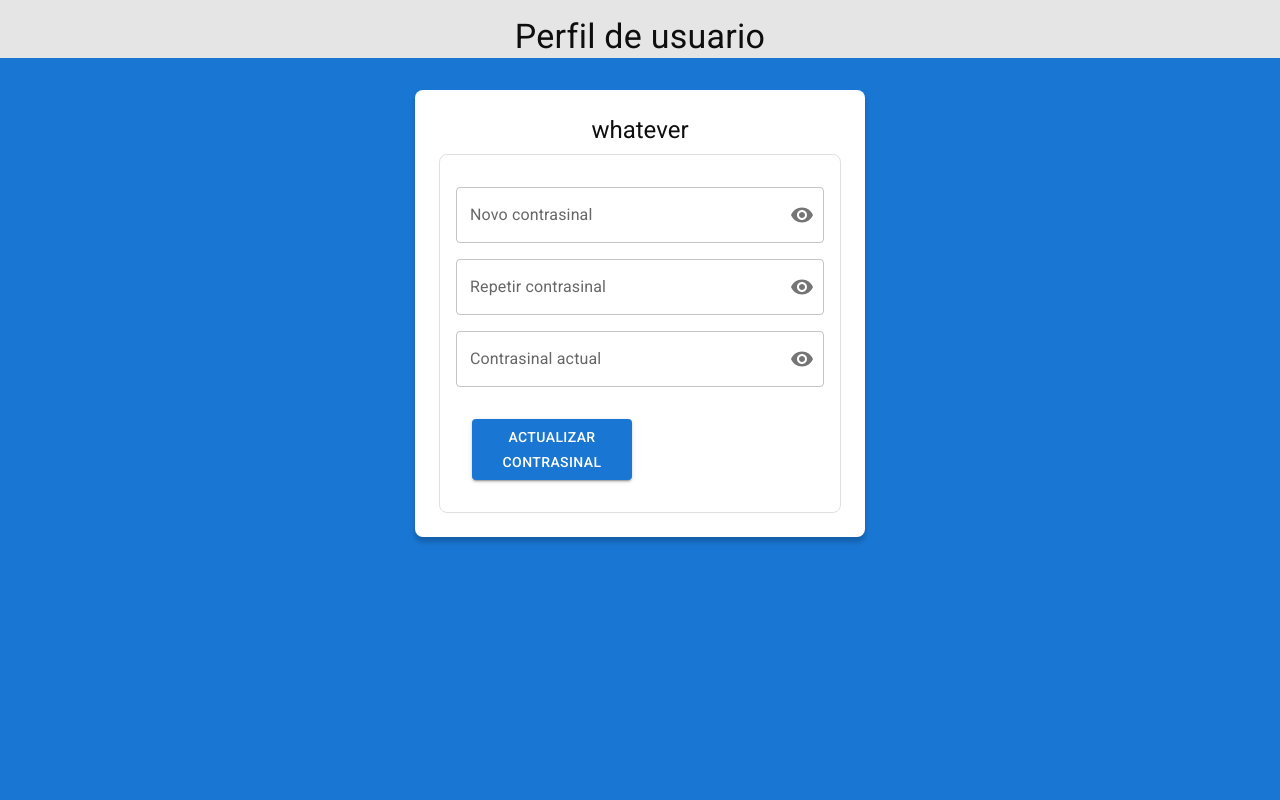
it: Profile › should render the backend error message
This screenshot has width=1280, height=800.
Type "SuperSecr3tPassword%" into the password field labelled "Novo contrasinal".
click(615, 215); type("SuperSecr3tPassword%")  # box [456,187,774,243]
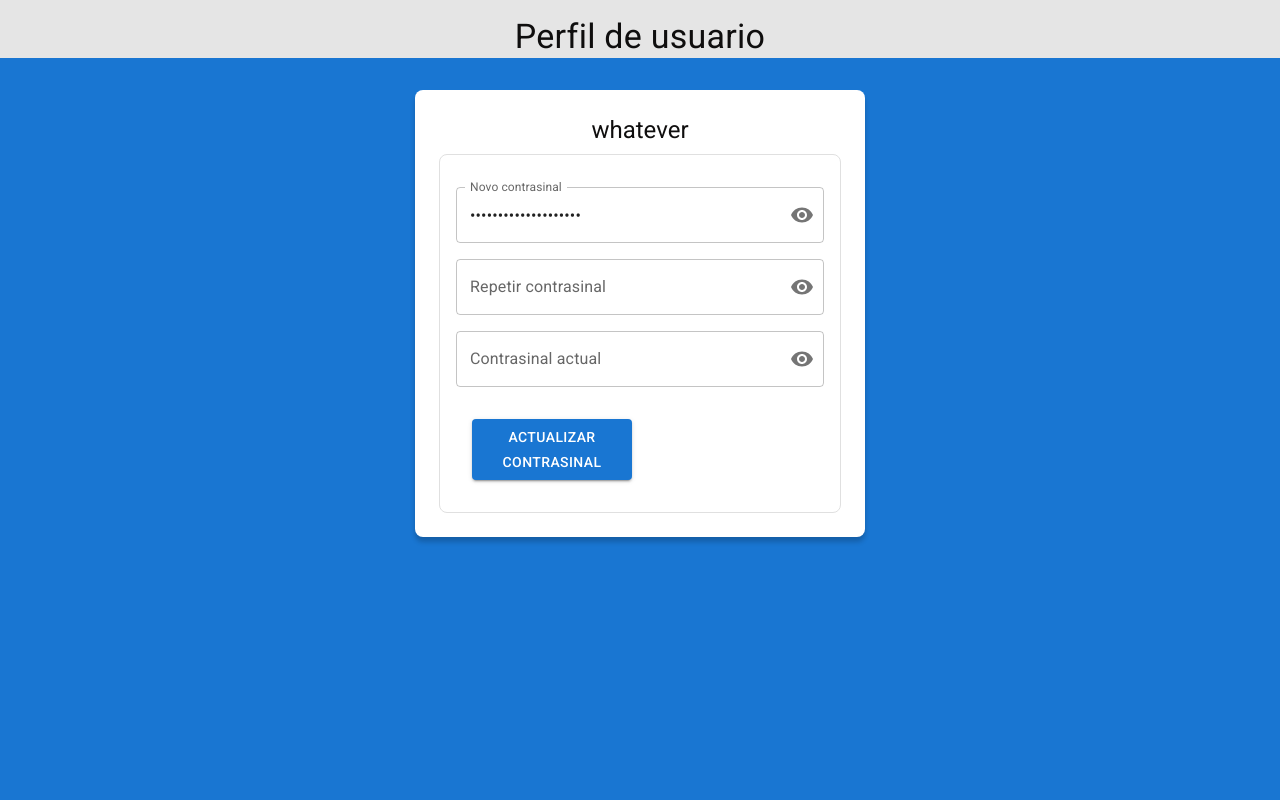
Type "SuperSecr3tPassword%" into the password field labelled "Repetir contrasinal".
click(615, 287); type("SuperSecr3tPassword%")  # box [456,259,774,315]
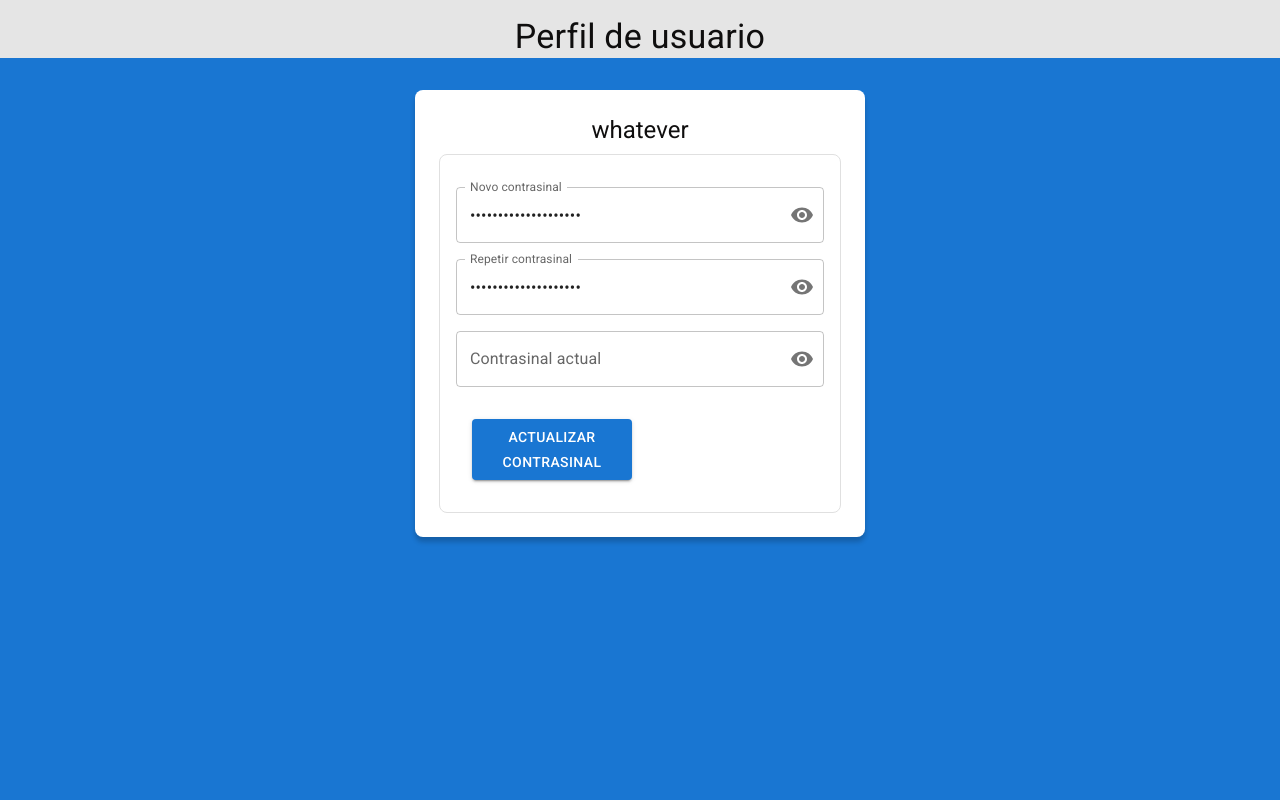
Type "oldPassword" into the password field labelled "Contrasinal actual".
click(615, 359); type("oldPassword")  # box [456,331,774,387]
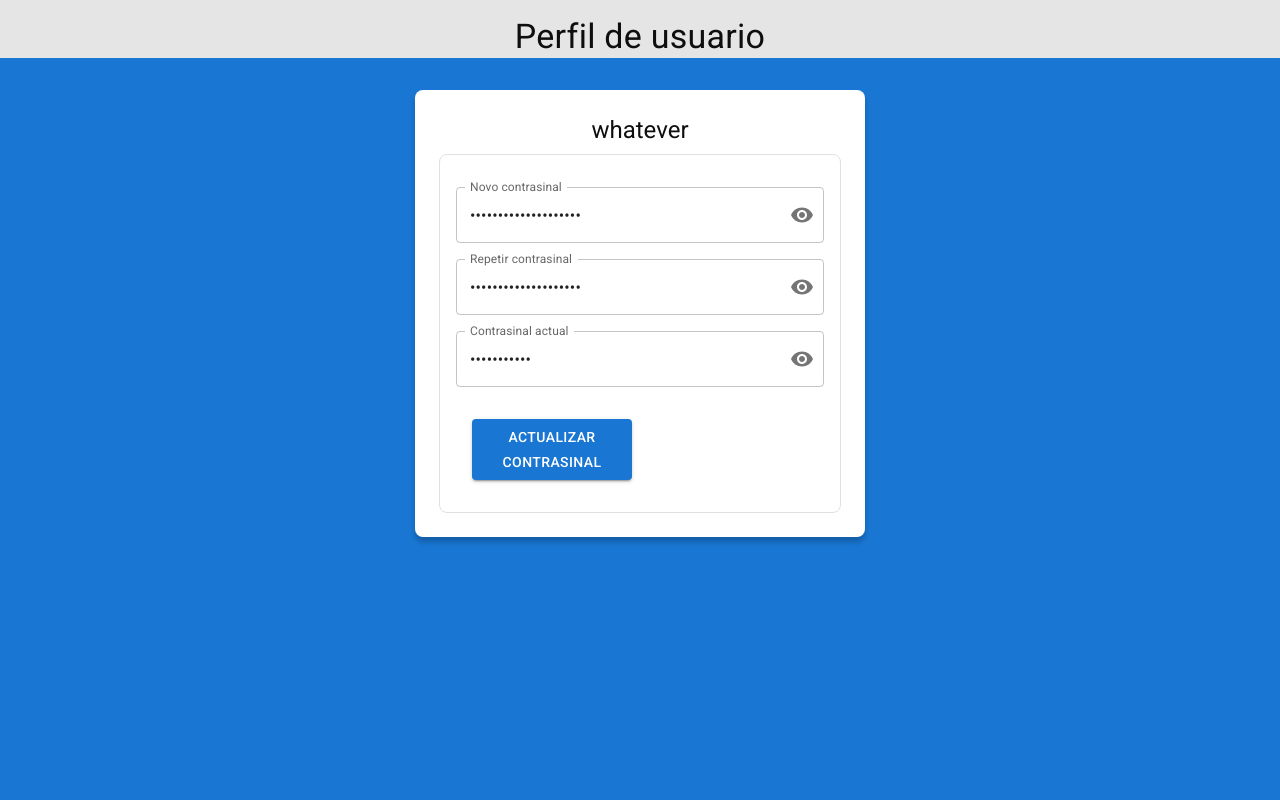
Click the button "Actualizar contrasinal".
click(552, 450)  # box [472,419,632,480]
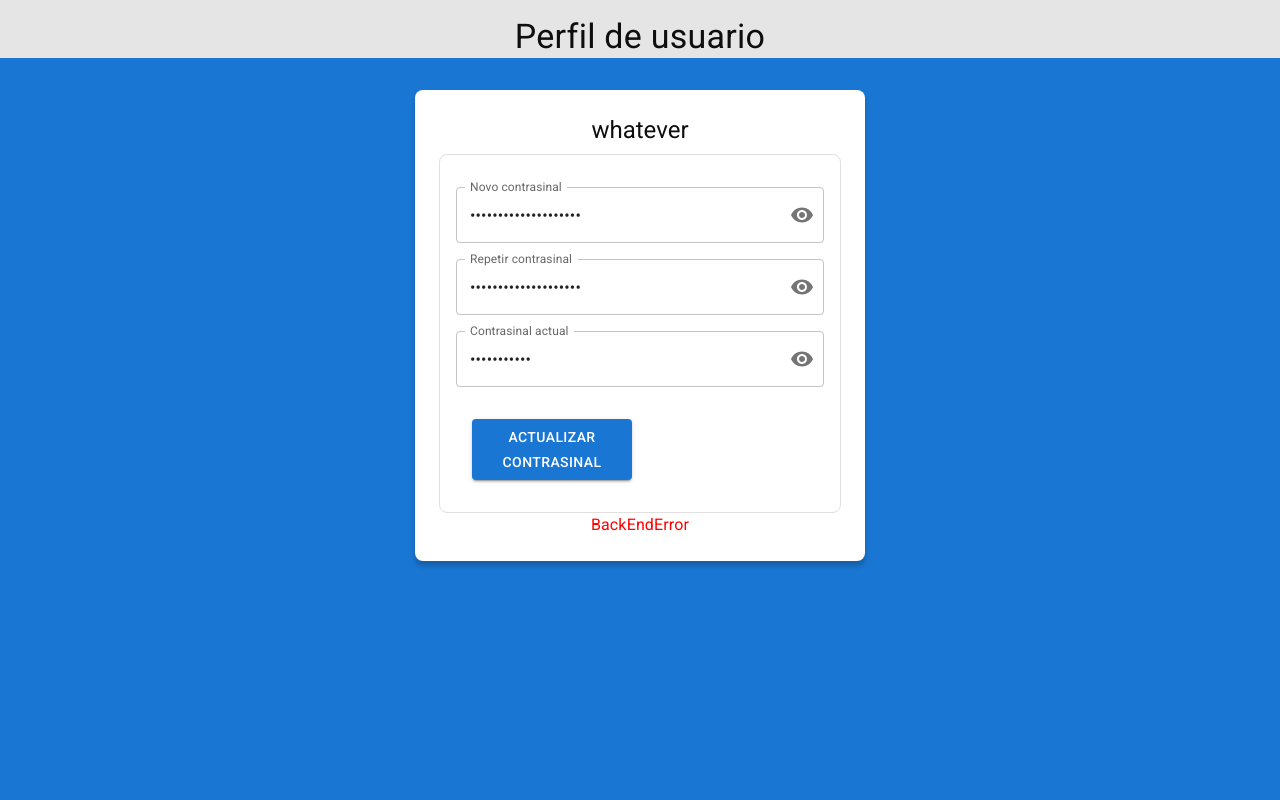
Now the text "BackEndError" is shown, box [591,515,689,534]
